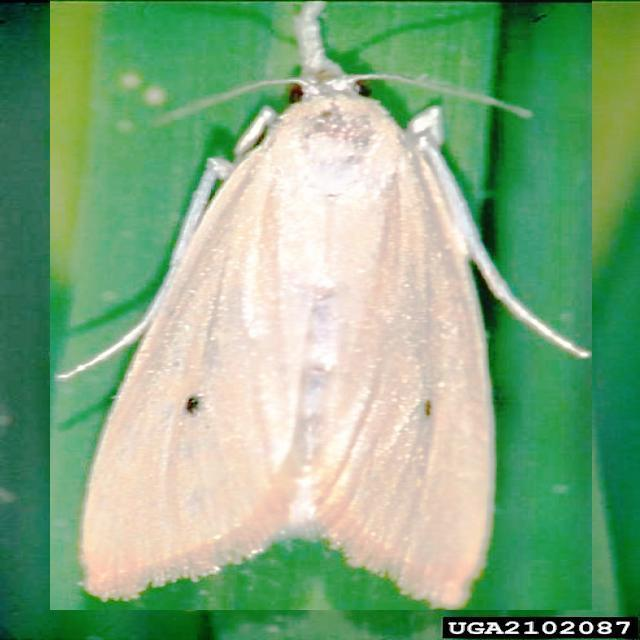stem-borer: (50, 0, 592, 610)
